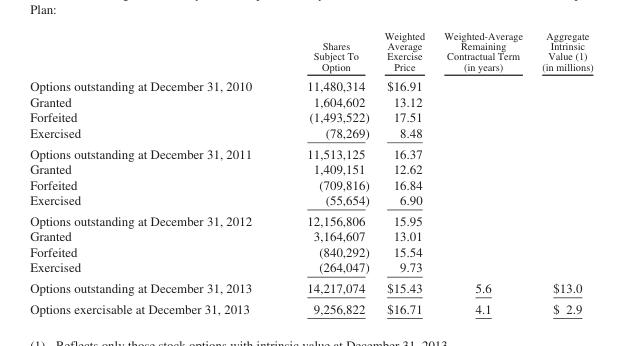table: (29, 29, 592, 315)
table column: (29, 29, 278, 315), (278, 29, 376, 315), (433, 29, 531, 315), (531, 29, 592, 315), (376, 29, 433, 315)
table column header: (29, 29, 592, 75)
table row: (29, 29, 592, 75), (29, 277, 592, 297), (29, 191, 592, 210), (29, 75, 592, 93), (29, 124, 592, 142), (29, 142, 592, 160), (29, 210, 592, 228), (29, 259, 592, 277), (29, 297, 592, 315), (29, 93, 592, 109), (29, 160, 592, 176), (29, 243, 592, 259), (29, 109, 592, 124), (29, 176, 592, 191), (29, 228, 592, 243)
